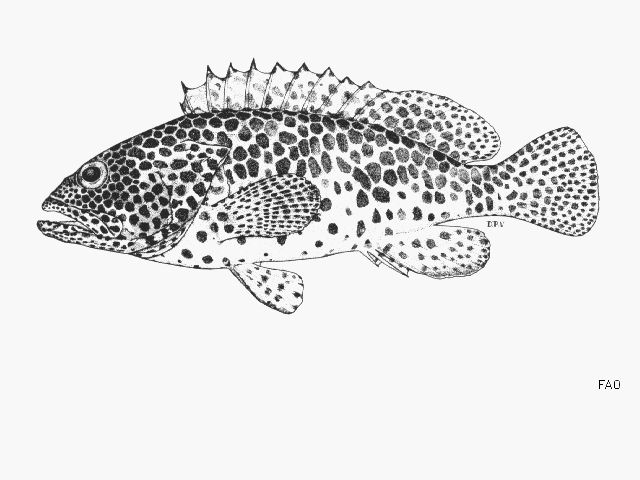fish: (36, 57, 601, 315)
